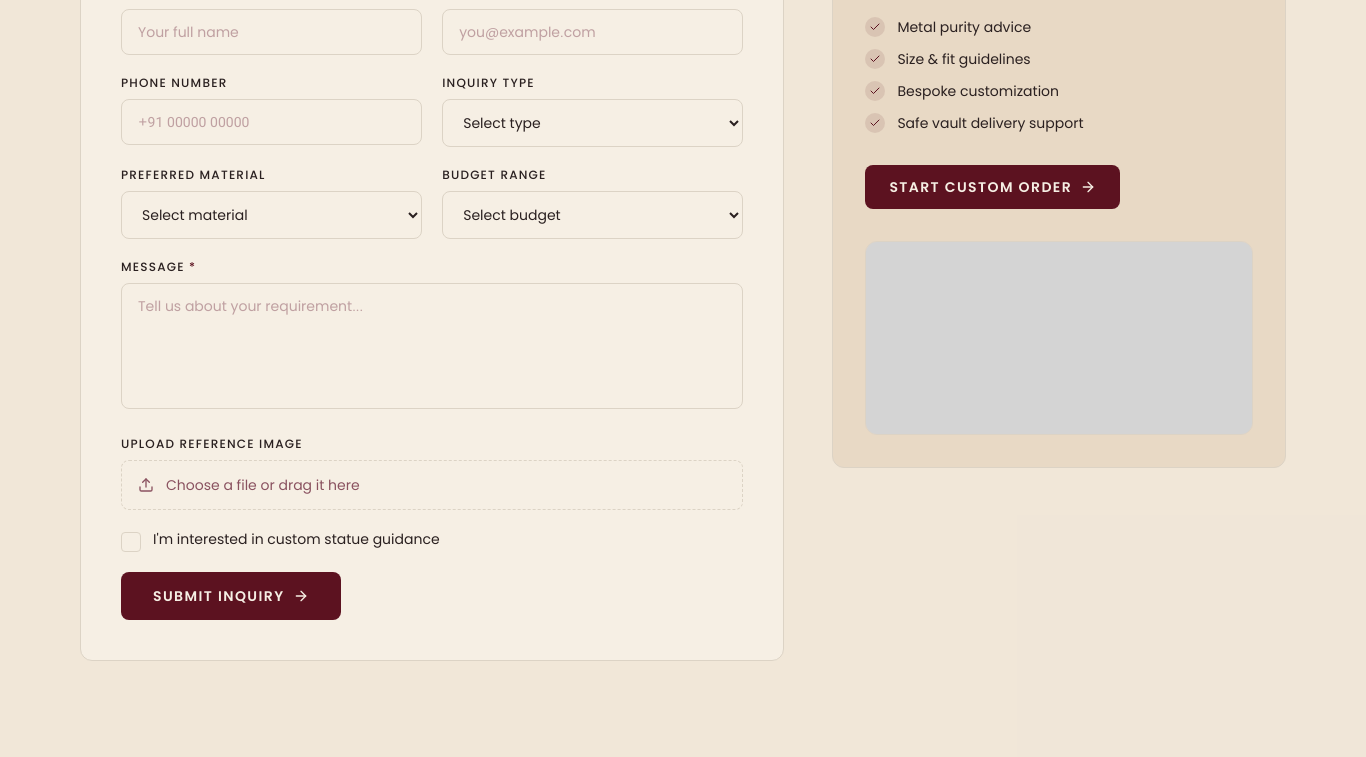
it: ContactForm › displays validation errors on empty submission
The image size is (1366, 757).
(page scrolled)
Click the button "Submit Inquiry".
click(231, 596)  # box [121,572,340,620]
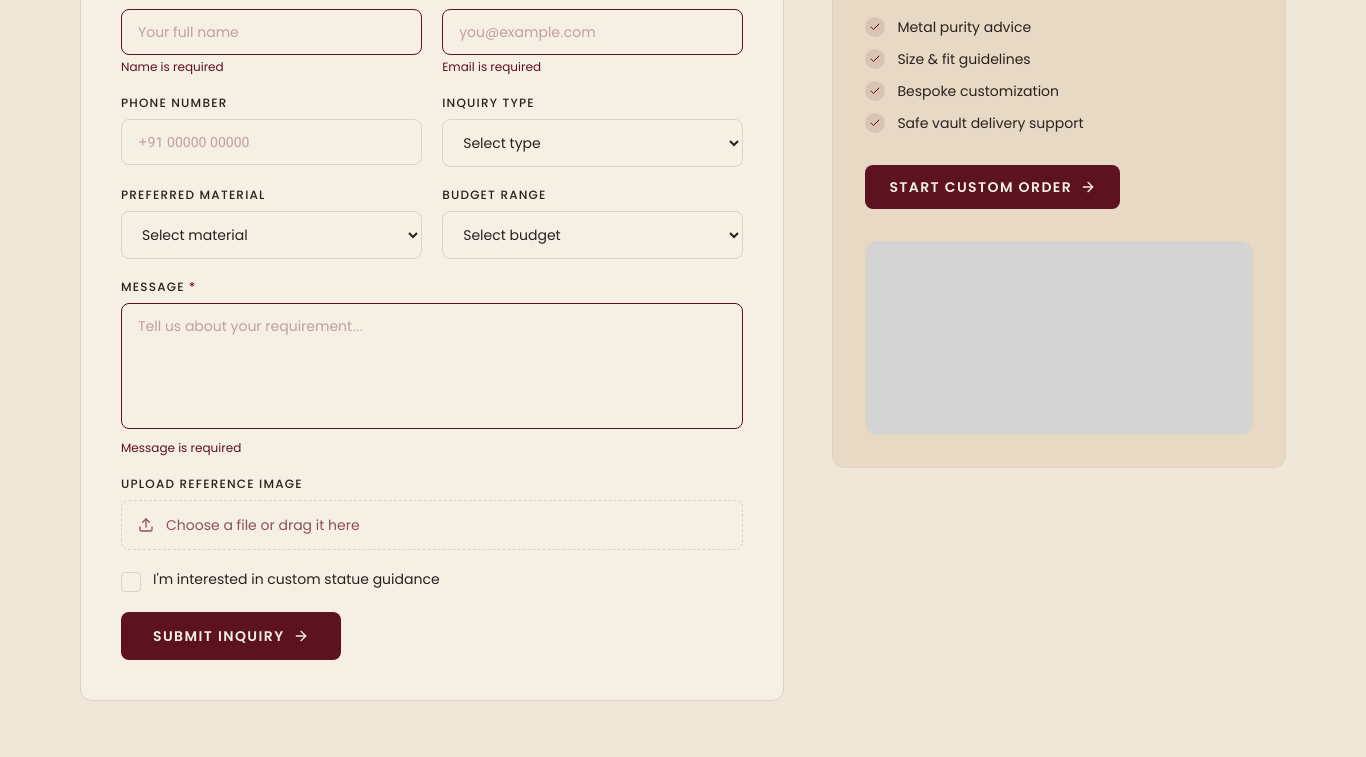
Now the text "Name is required" is shown, box [121,58,224,75]
Now the text "Email is required" is shown, box [442,58,541,75]
Now the text "Message is required" is shown, box [121,439,241,456]
